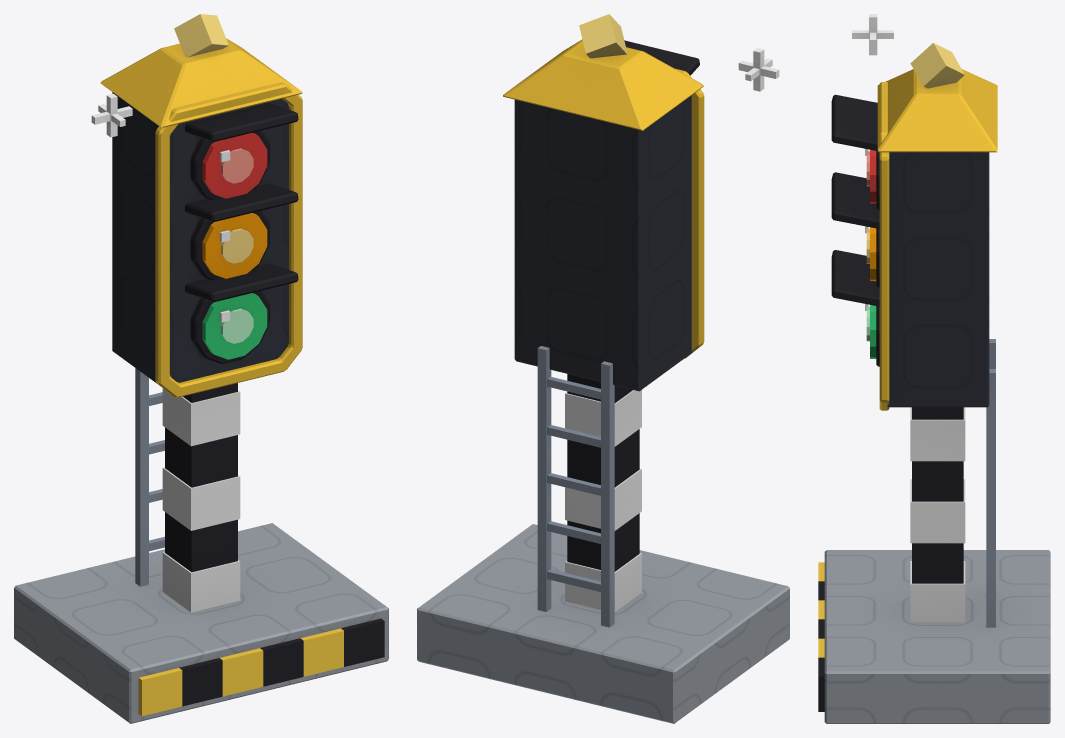
File: TrackSignal.fbx
The picture shows the model from 3 angles, left to right: view 1: azimuth 30°, elevation 25°; view 2: azimuth 150°, elevation 25°; view 3: azimuth 270°, elevation 25°; orthographic projection. The views are drawn at different scales.
Visible parts, largest first — view 1: Art_TrackSignal; view 2: Art_TrackSignal; view 3: Art_TrackSignal.
Boxes of the visible parts, x1,y1,x2,y2 form: Art_TrackSignal: (14, 14, 388, 723); Art_TrackSignal: (417, 14, 789, 723); Art_TrackSignal: (818, 14, 1050, 723).
Bounding box in the file's own units: 1.88 × 4.23 × 1.44.
